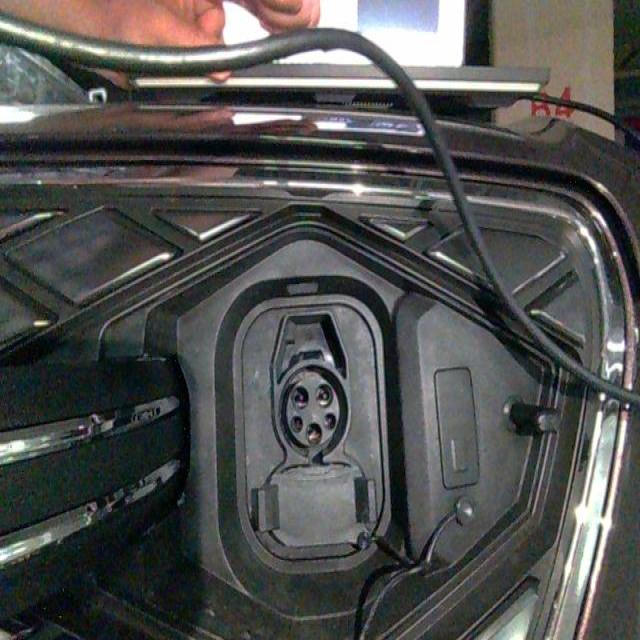Type 1: (266, 360, 373, 469)
